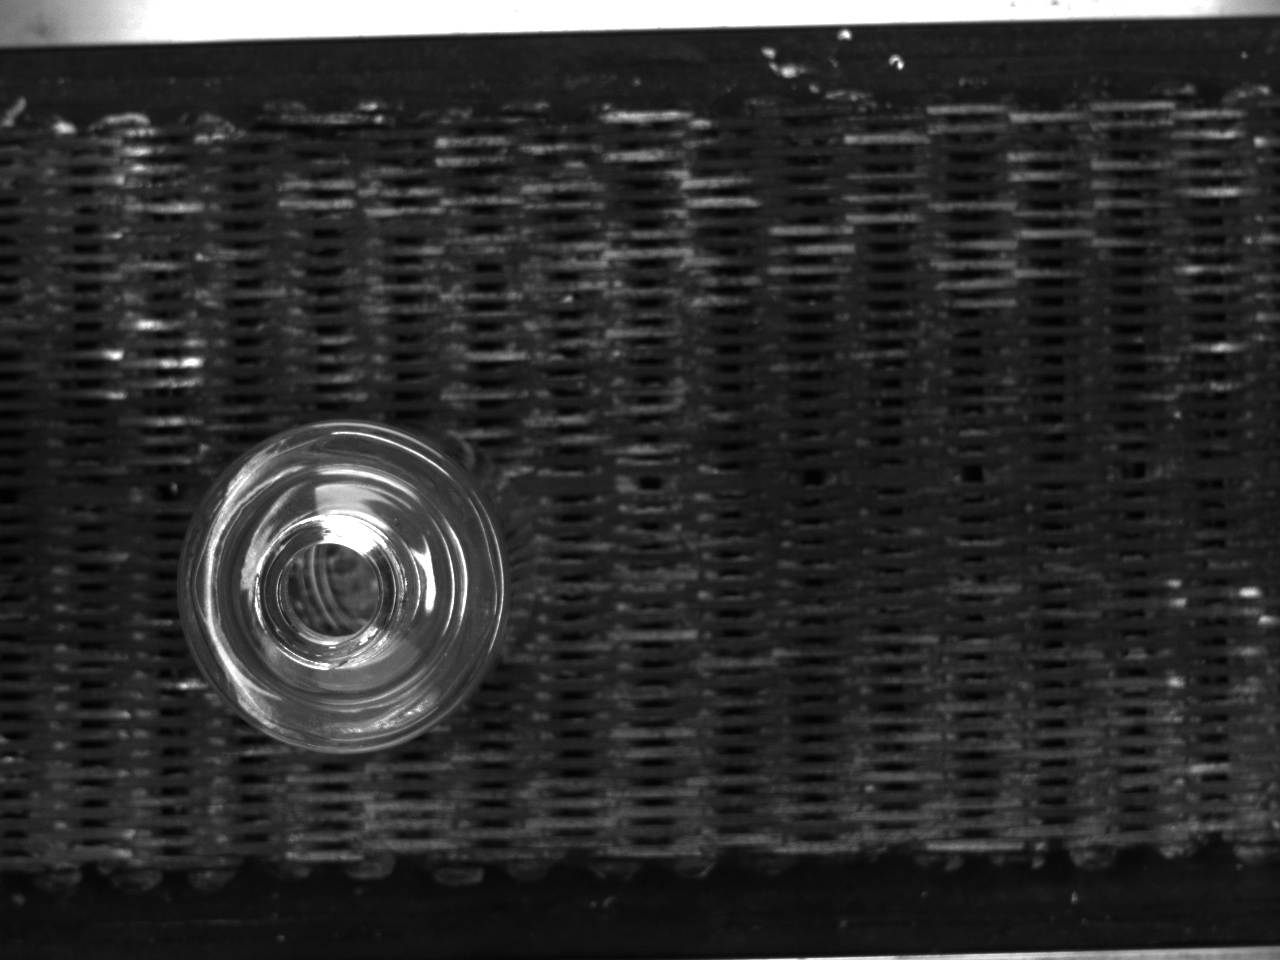bottleneck: (258, 513, 421, 668)
